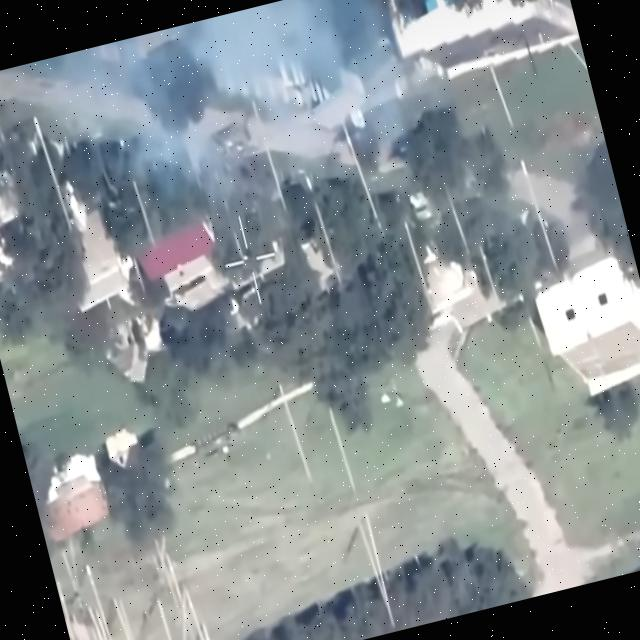AIFV: (189, 418, 249, 468)
MBT: (209, 119, 259, 167)
